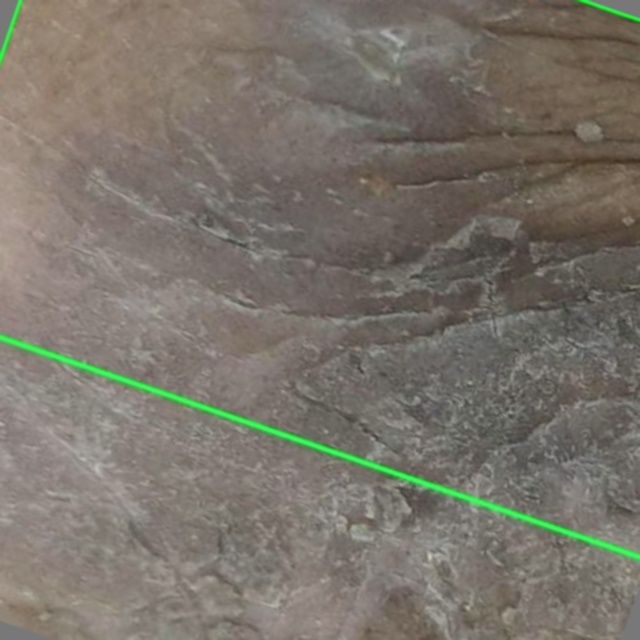Eczema: (0, 0, 639, 556)
